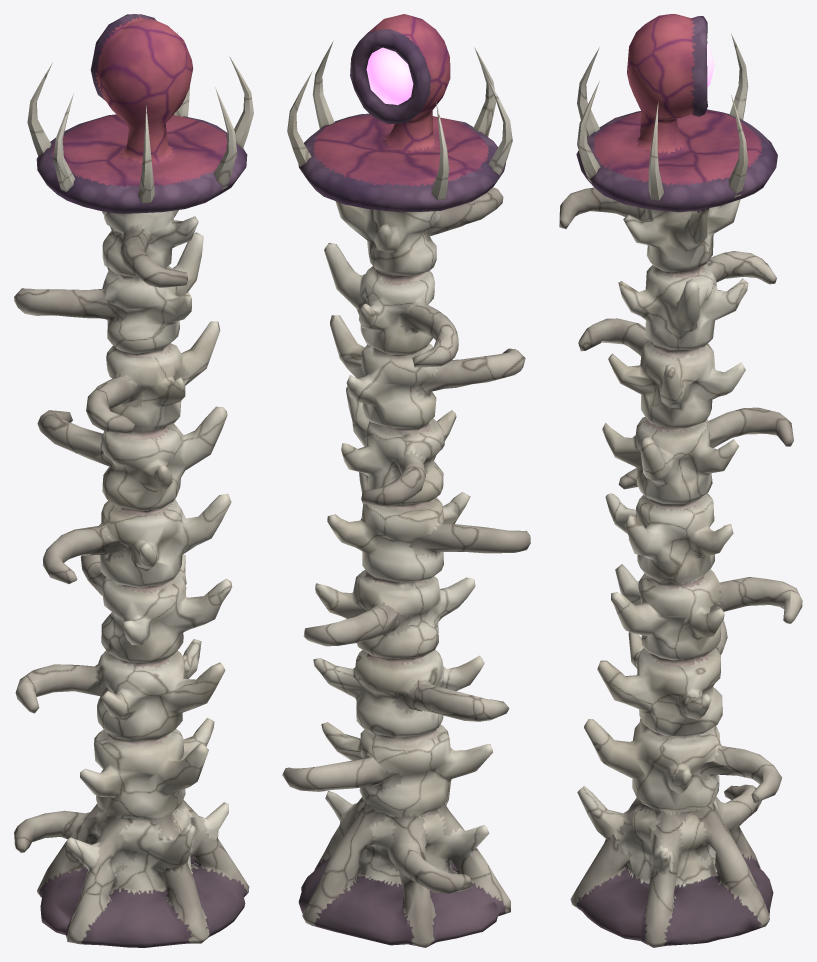
File: torre_hueso.fbx
3 views of the same model, side by side, from view 1: azimuth 30°, elevation 25°; view 2: azimuth 150°, elevation 25°; view 3: azimuth 270°, elevation 25° (orthographic).
Parts seen in each view (by area): view 1: torre; view 2: torre, ojo_neon; view 3: torre.
Part boxes in pixels (x1,y1,x2,y2): torre: (14, 14, 253, 947); torre: (282, 14, 530, 947); ojo_neon: (366, 47, 413, 105); torre: (559, 14, 802, 947).
Size of the model in its own units: 4.01 by 16 by 3.99.
1 material, 1 textured.
